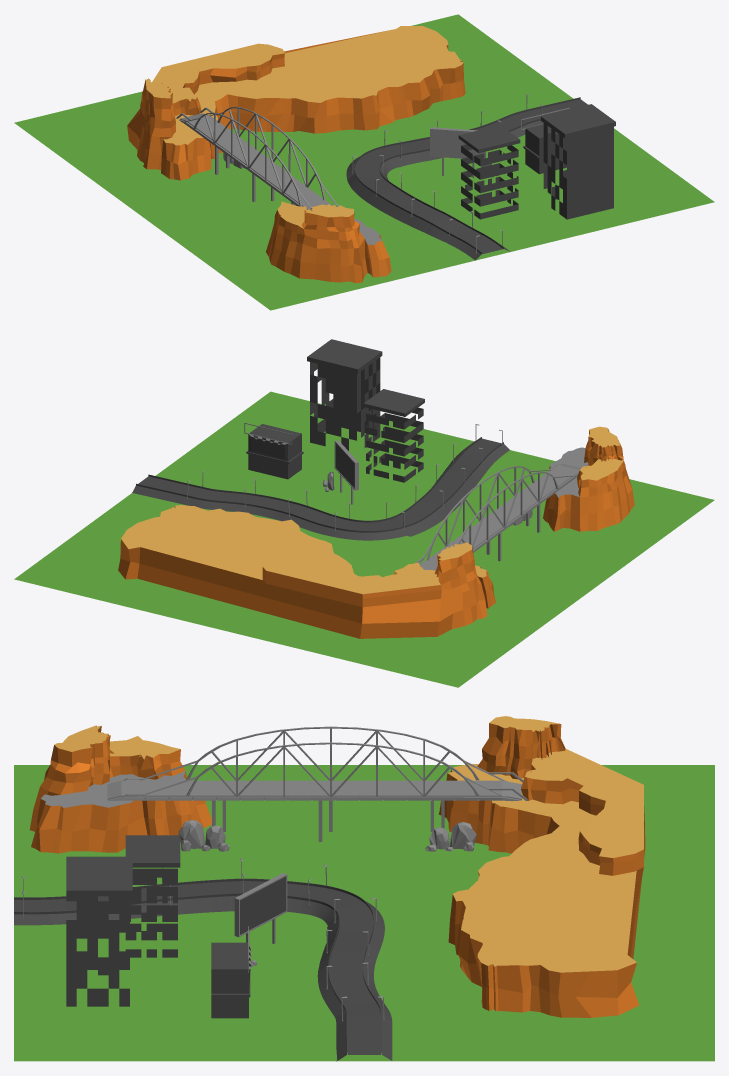
3 views of the same model, one above another, from view 1: azimuth 30°, elevation 25°; view 2: azimuth 150°, elevation 25°; view 3: azimuth 270°, elevation 25° (orthographic). The views are drawn at different scales.
Visible parts, largest first — view 1: Plane.002; view 2: Plane.002; view 3: Plane.002.
Part boxes in pixels (x1,y1,x2,y2): Plane.002: (14,14,714,310); Plane.002: (14,339,714,687); Plane.002: (14,716,714,1061).
Size of the model in its own units: 20001 by 3795 by 20001.
